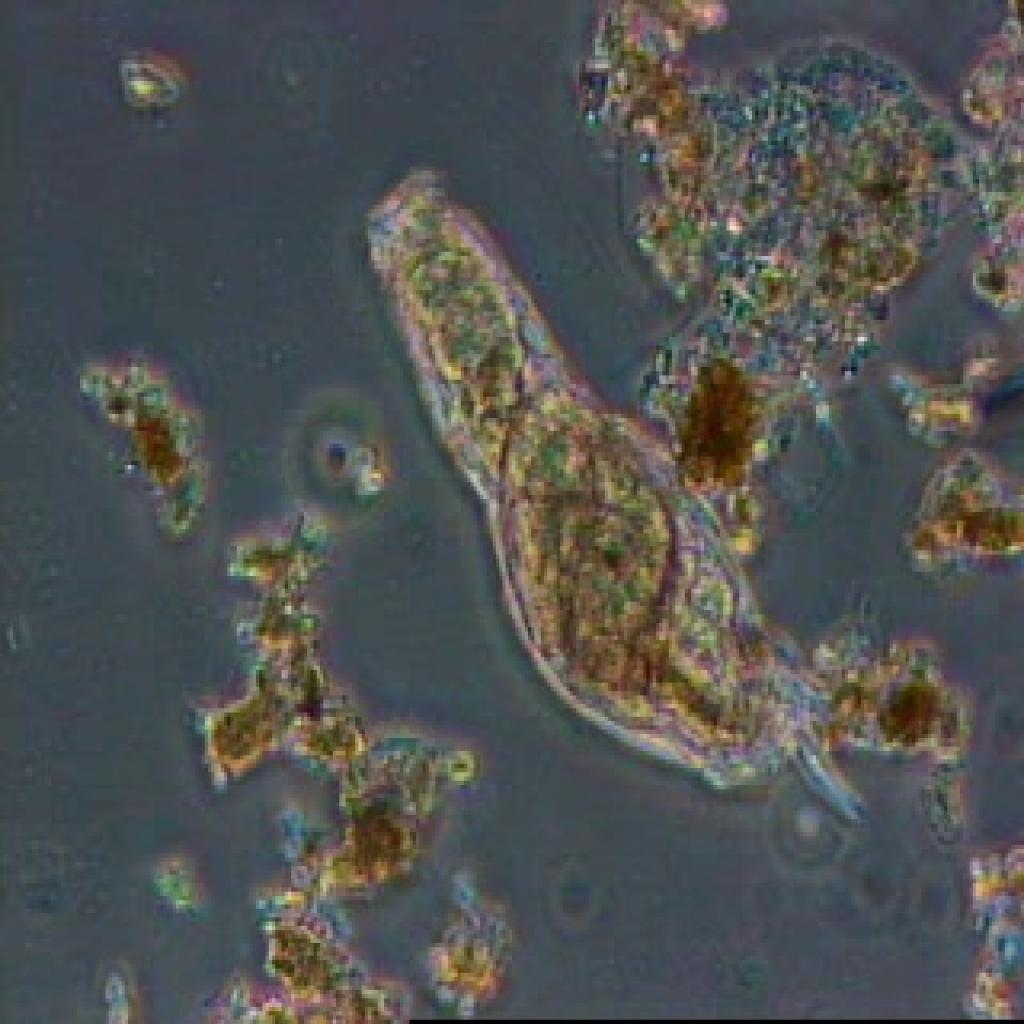Rotatoria: (366, 166, 846, 811)
